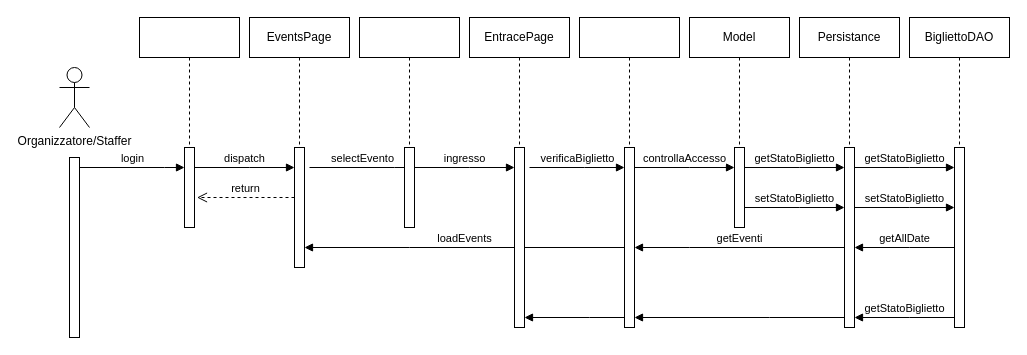
Image size: 1027x355. Some labels were removed from this diagram. The shapes that lost their labels are listed below. From the top down, each one's centre as x and y in pixels, then its label:
At (189,122): "LoginPage".
At (409,122): "MainPage".
At (629,122): "Controller".
